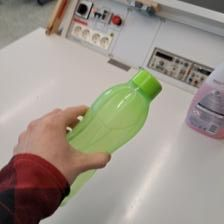bottle: (60, 66, 166, 208)
